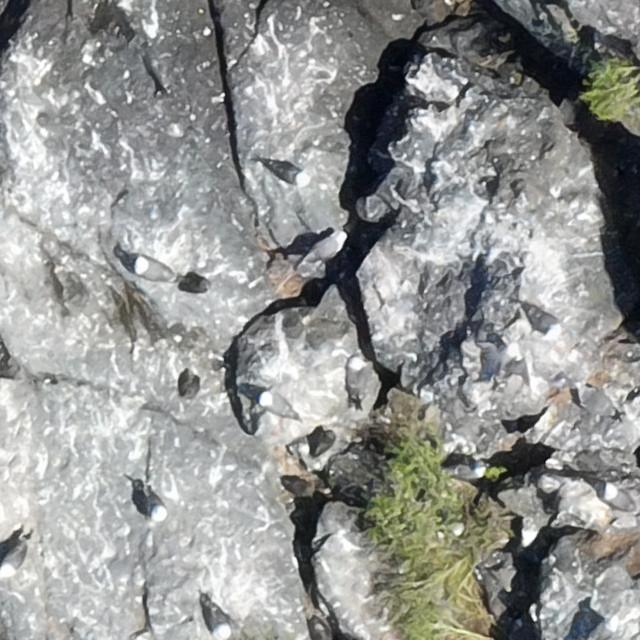umineko: (298, 230, 347, 276), (259, 389, 296, 420), (348, 355, 368, 403), (606, 483, 638, 513), (525, 308, 559, 333), (174, 275, 214, 293), (136, 260, 171, 280), (2, 544, 25, 574), (269, 163, 303, 183), (210, 607, 231, 637), (145, 492, 166, 521), (464, 463, 485, 480)
